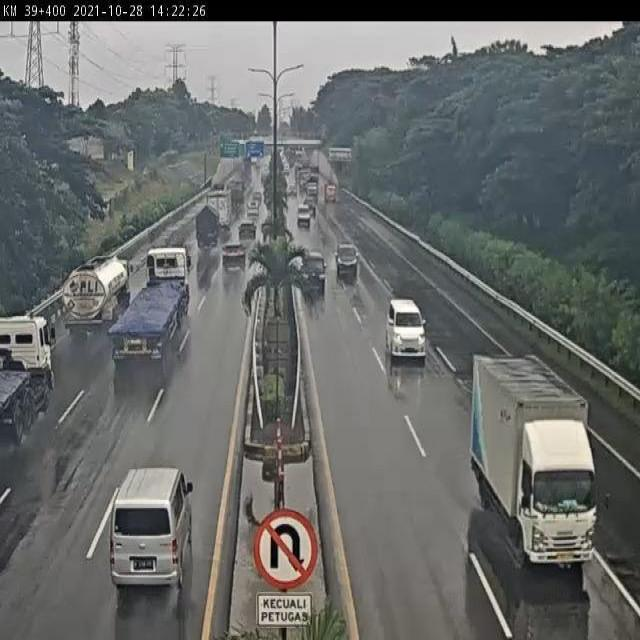car: (107, 468, 196, 595), (386, 296, 428, 361), (299, 247, 327, 292), (218, 240, 245, 273), (236, 222, 256, 246)
small truck: (469, 348, 600, 564)
truck-l-: (205, 191, 232, 233)
truck-m-: (61, 255, 132, 329), (194, 205, 219, 251)
truck-xl-: (108, 244, 191, 364), (0, 312, 52, 457)
